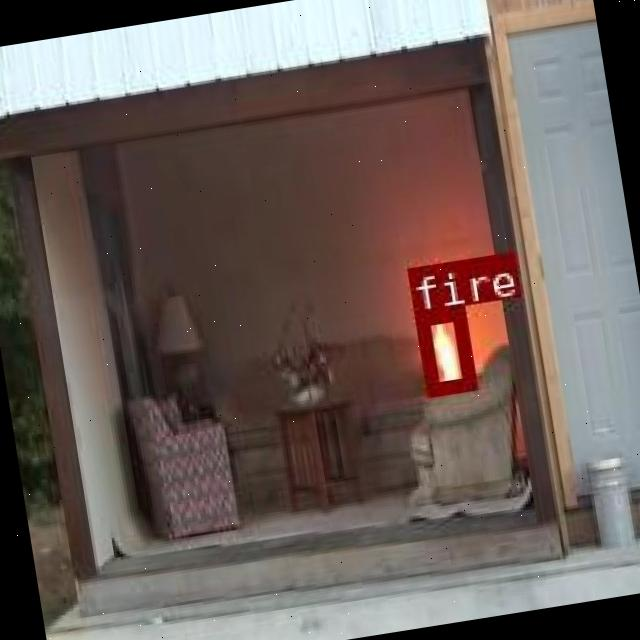fire: (412, 304, 473, 394)
